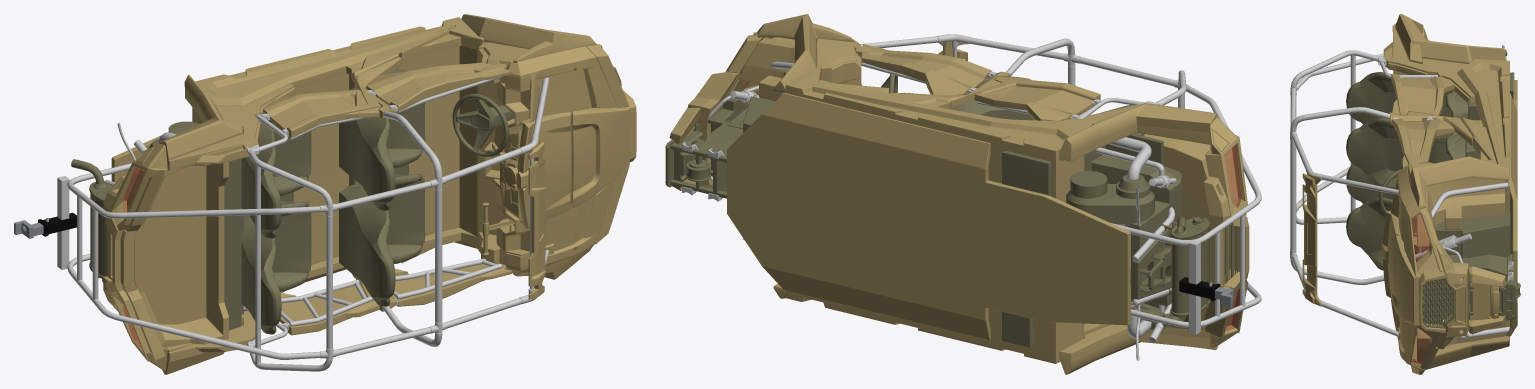
The model's file is Polaris_chassis.obj.
3 renders of one model, left to right at view 1: azimuth 30°, elevation 25°; view 2: azimuth 150°, elevation 25°; view 3: azimuth 270°, elevation 25°, orthographic. The views are drawn at different scales.
Visible parts, largest first — view 1: Polaris_Chassis_07, Hitch; view 2: Polaris_Chassis_07, Hitch; view 3: Polaris_Chassis_07.
Part boxes in pixels (x1,y1,x2,y2): Polaris_Chassis_07: [67, 14, 636, 374]; Hitch: [14, 176, 76, 269]; Polaris_Chassis_07: [665, 14, 1261, 374]; Hitch: [1179, 239, 1233, 334]; Polaris_Chassis_07: [1290, 14, 1520, 374].
Size of the model in its own units: 3.59 by 1.49 by 1.53.
